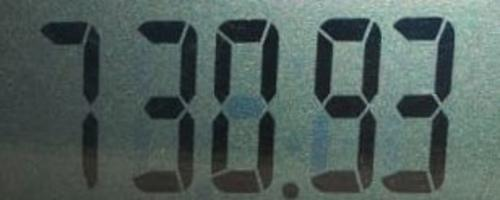.: (280, 182, 299, 200)
